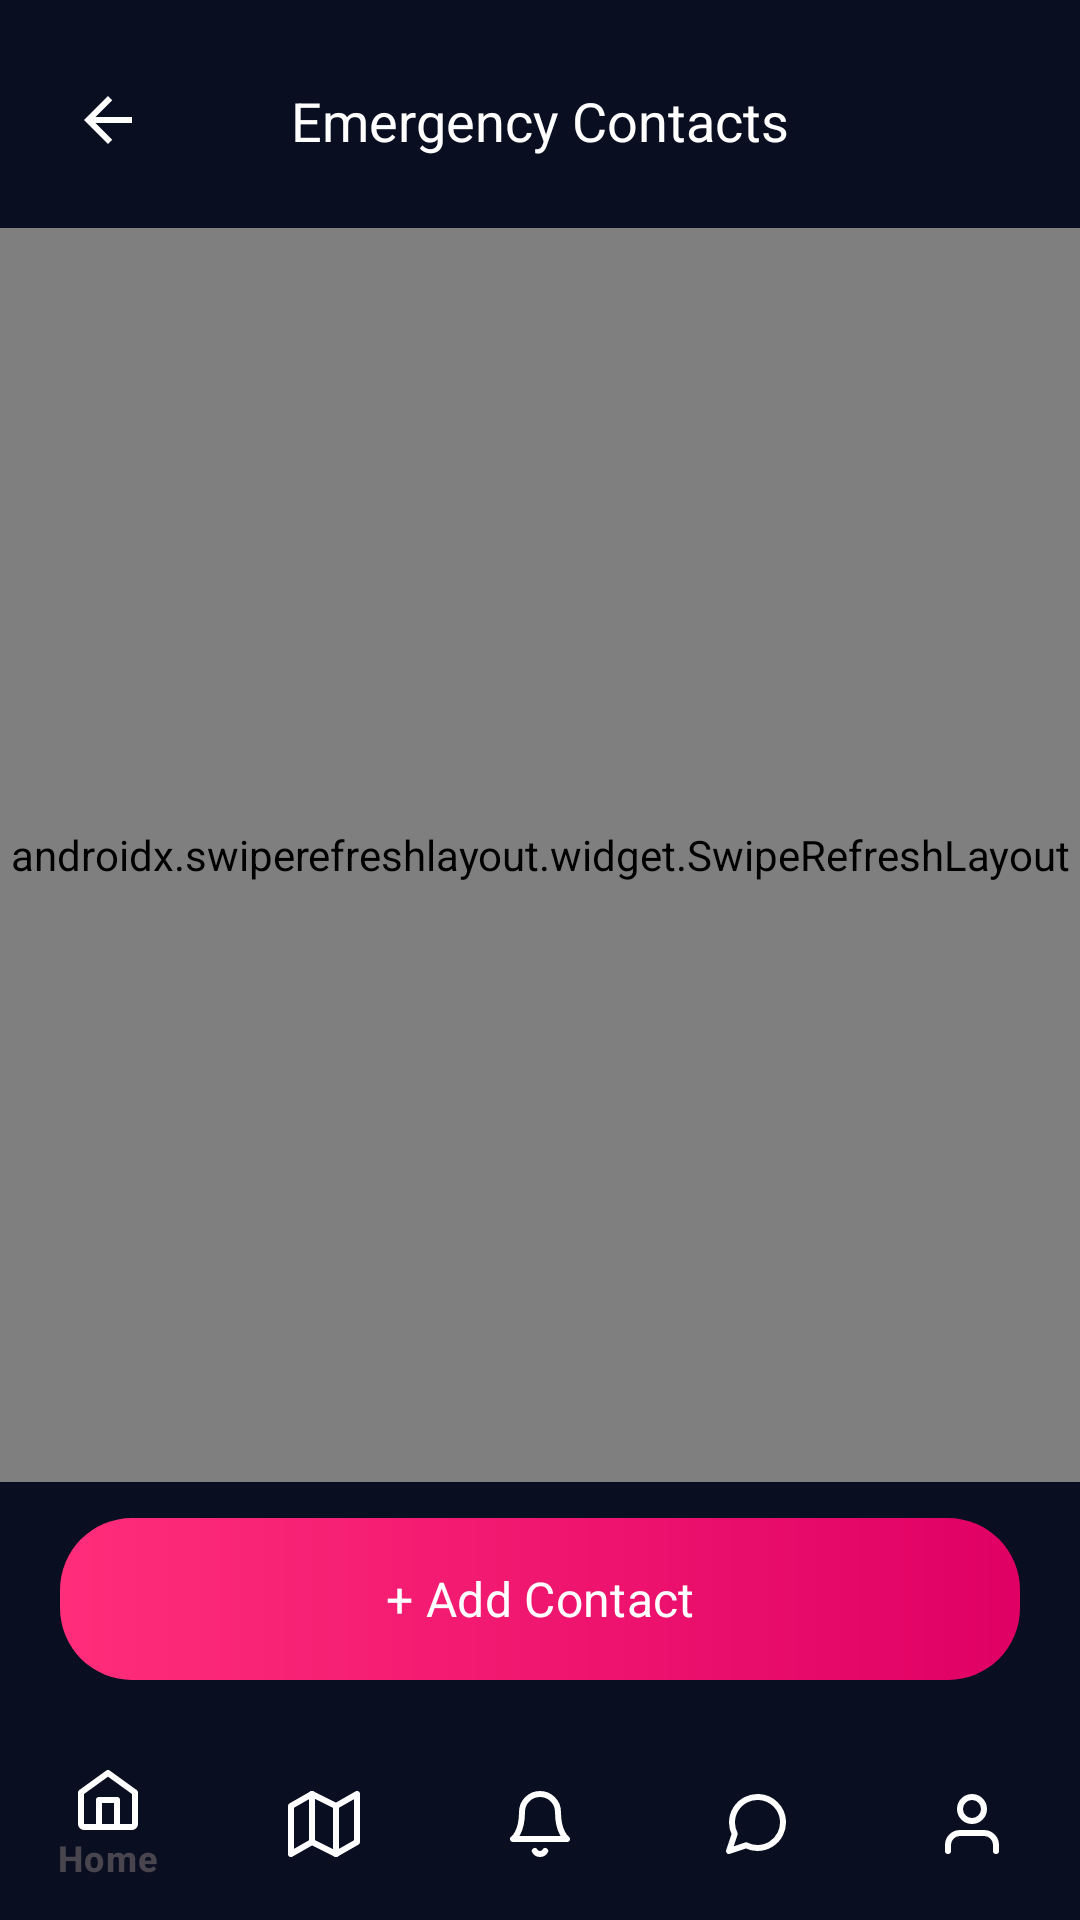

Locate icon controls on the screen. Image size 1080 x 1920, boxes as (x1=x1, y1=y1, x2=x2, y2=y2).
Back: (x1=84, y1=96, x2=132, y2=144)
